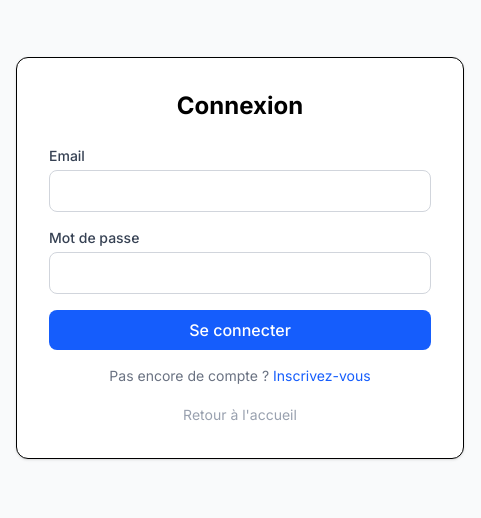
LoginPage › toggles back to login form
Click the button "Inscrivez-vous" at (322, 376), box [273,366,371,386]
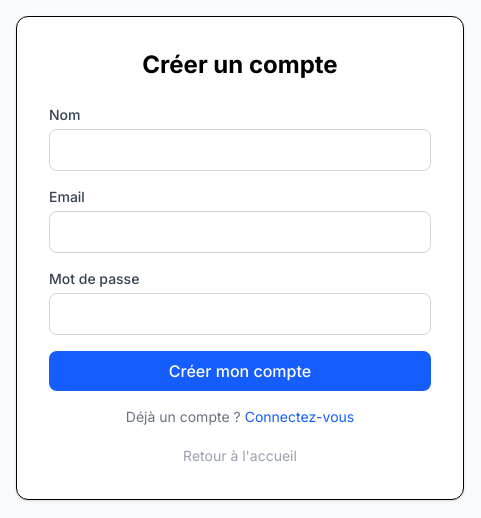
Click the button "Connectez-vous" at (300, 417), box [245,407,354,427]
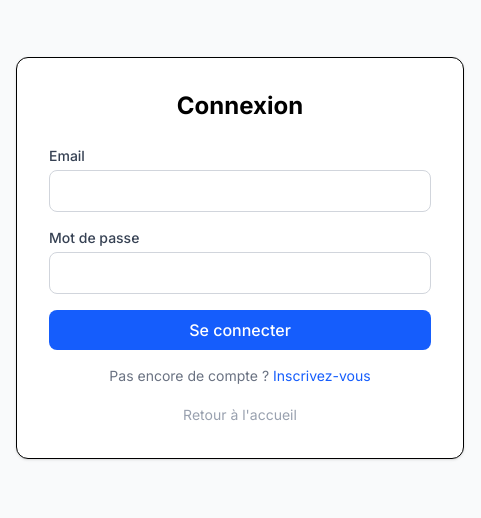
Expected: the heading "Connexion" is shown, [177,91,303,120]
Expected: the label labelled "Nom" is gone
